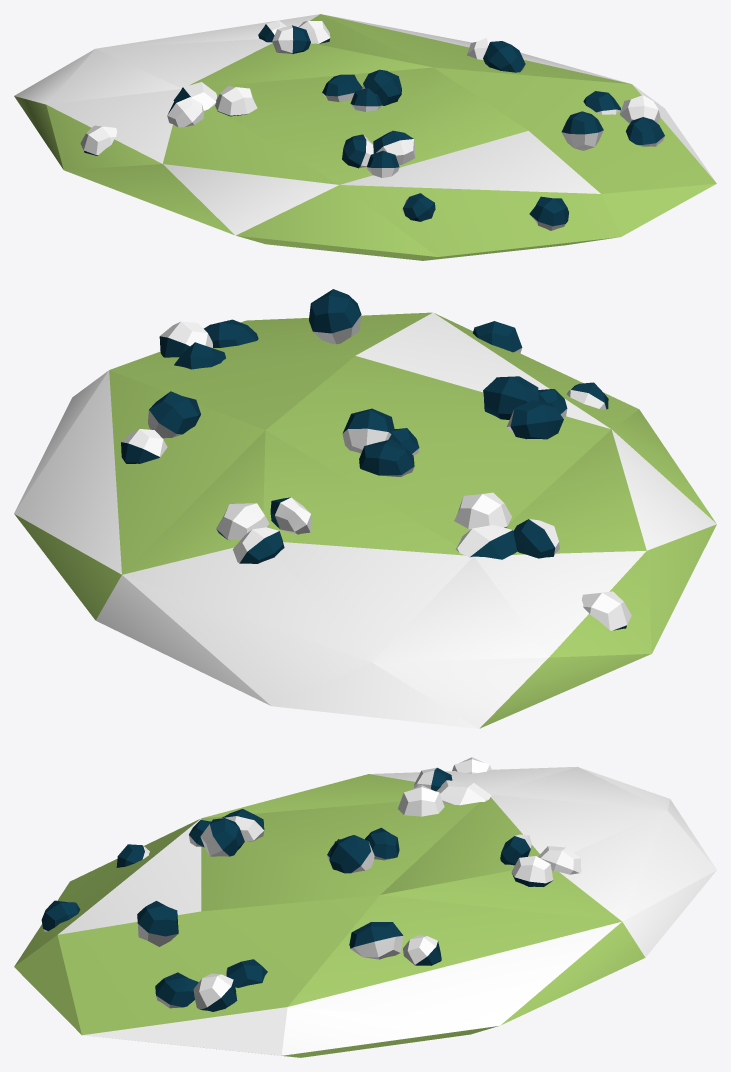
File: crowberry_1.fbx
3 renders of one model, top to bottom at view 1: azimuth 30°, elevation 25°; view 2: azimuth 150°, elevation 25°; view 3: azimuth 270°, elevation 25°, orthographic. The views are drawn at different scales.
Visible parts, largest first — view 1: Apple_Snow_01.003; view 2: Apple_Snow_01.003; view 3: Apple_Snow_01.003.
Part boxes in pixels (x1,y1,x2,y2): Apple_Snow_01.003: (14, 14, 716, 260); Apple_Snow_01.003: (14, 289, 716, 728); Apple_Snow_01.003: (14, 757, 716, 1057).
Bounding box in the file's own units: 1.8 × 0.3547 × 1.93.
1 material, 1 textured.
